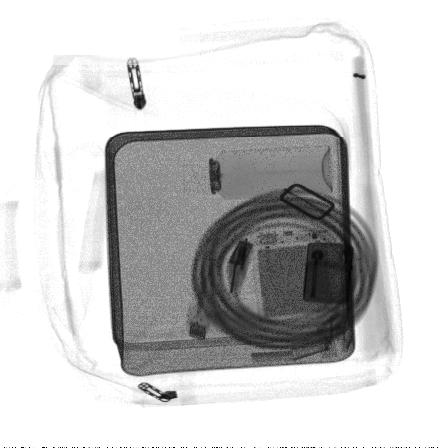Lighter: (302, 242, 355, 305)
Powerbank: (249, 227, 335, 327)
Sprayer: (181, 145, 334, 201)
